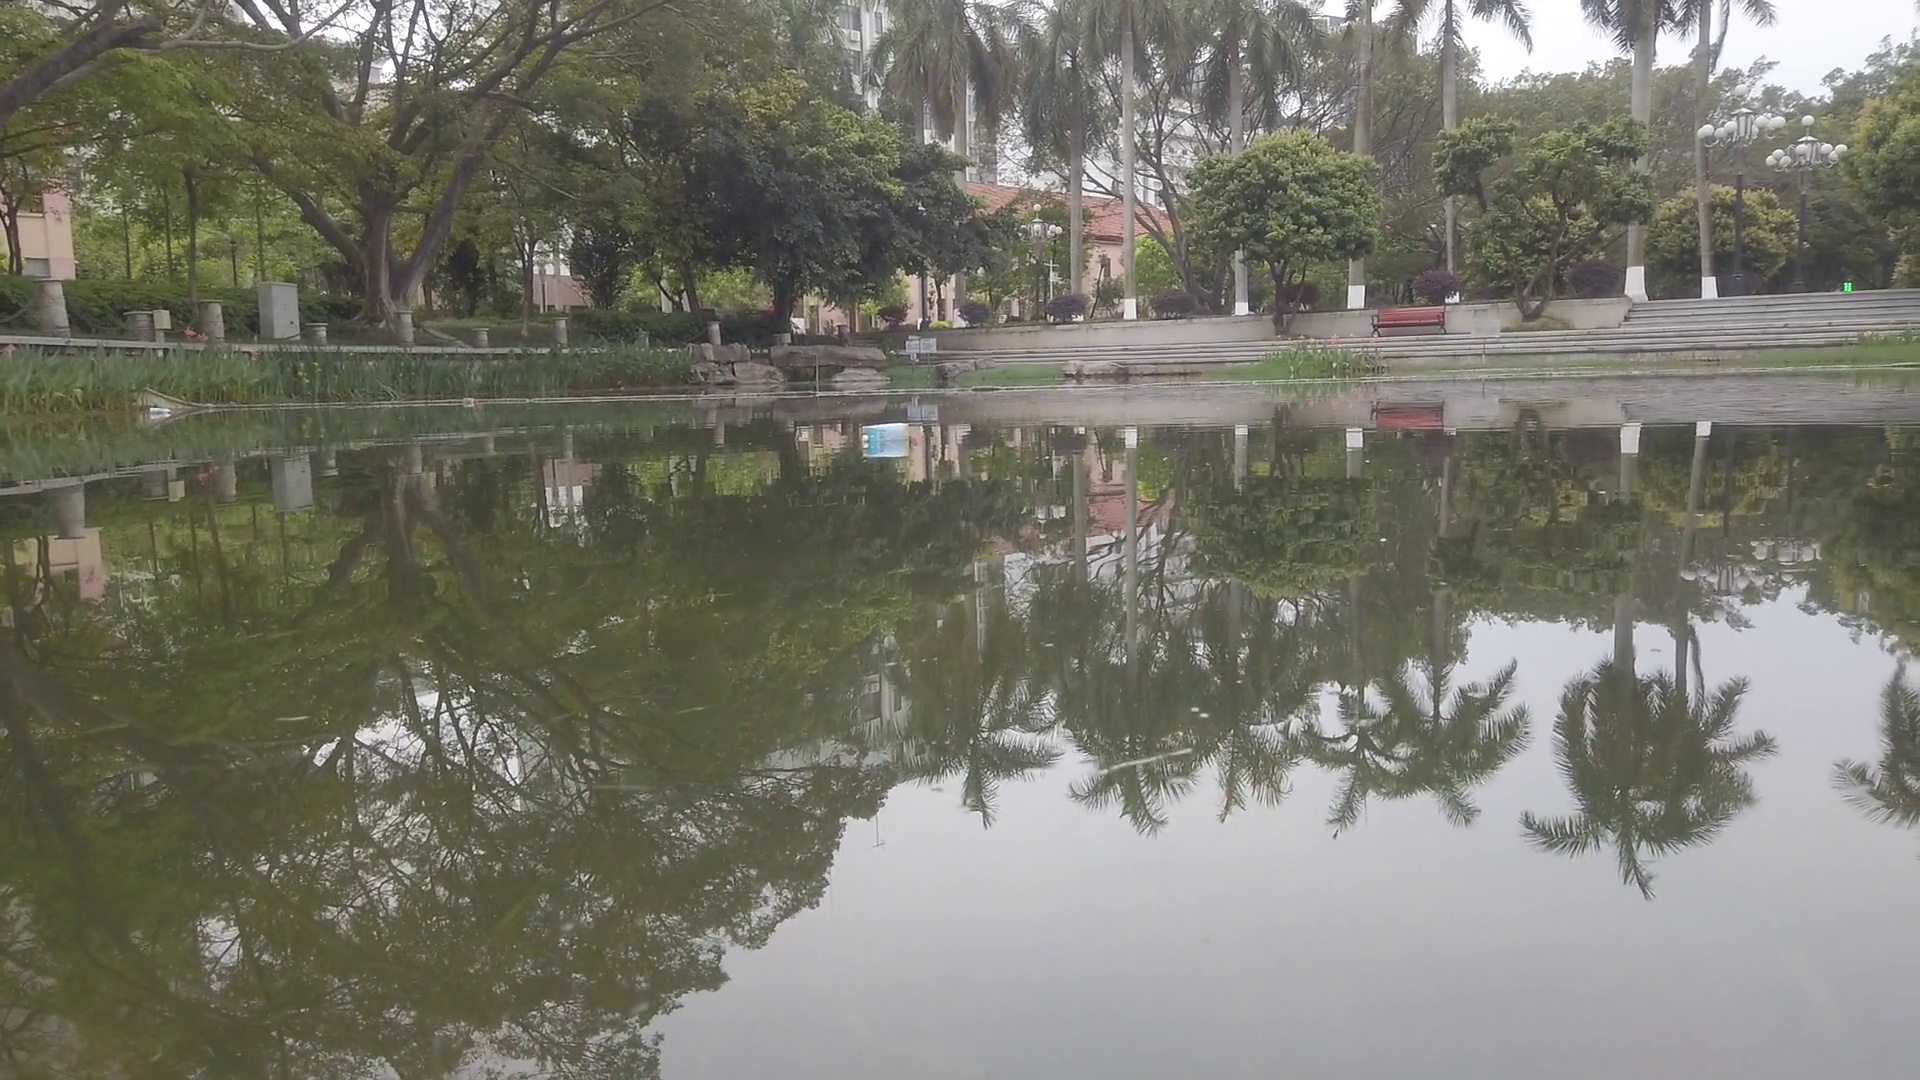bottle: (148, 406, 174, 418), (462, 396, 480, 409)
carton: (860, 421, 910, 446)
